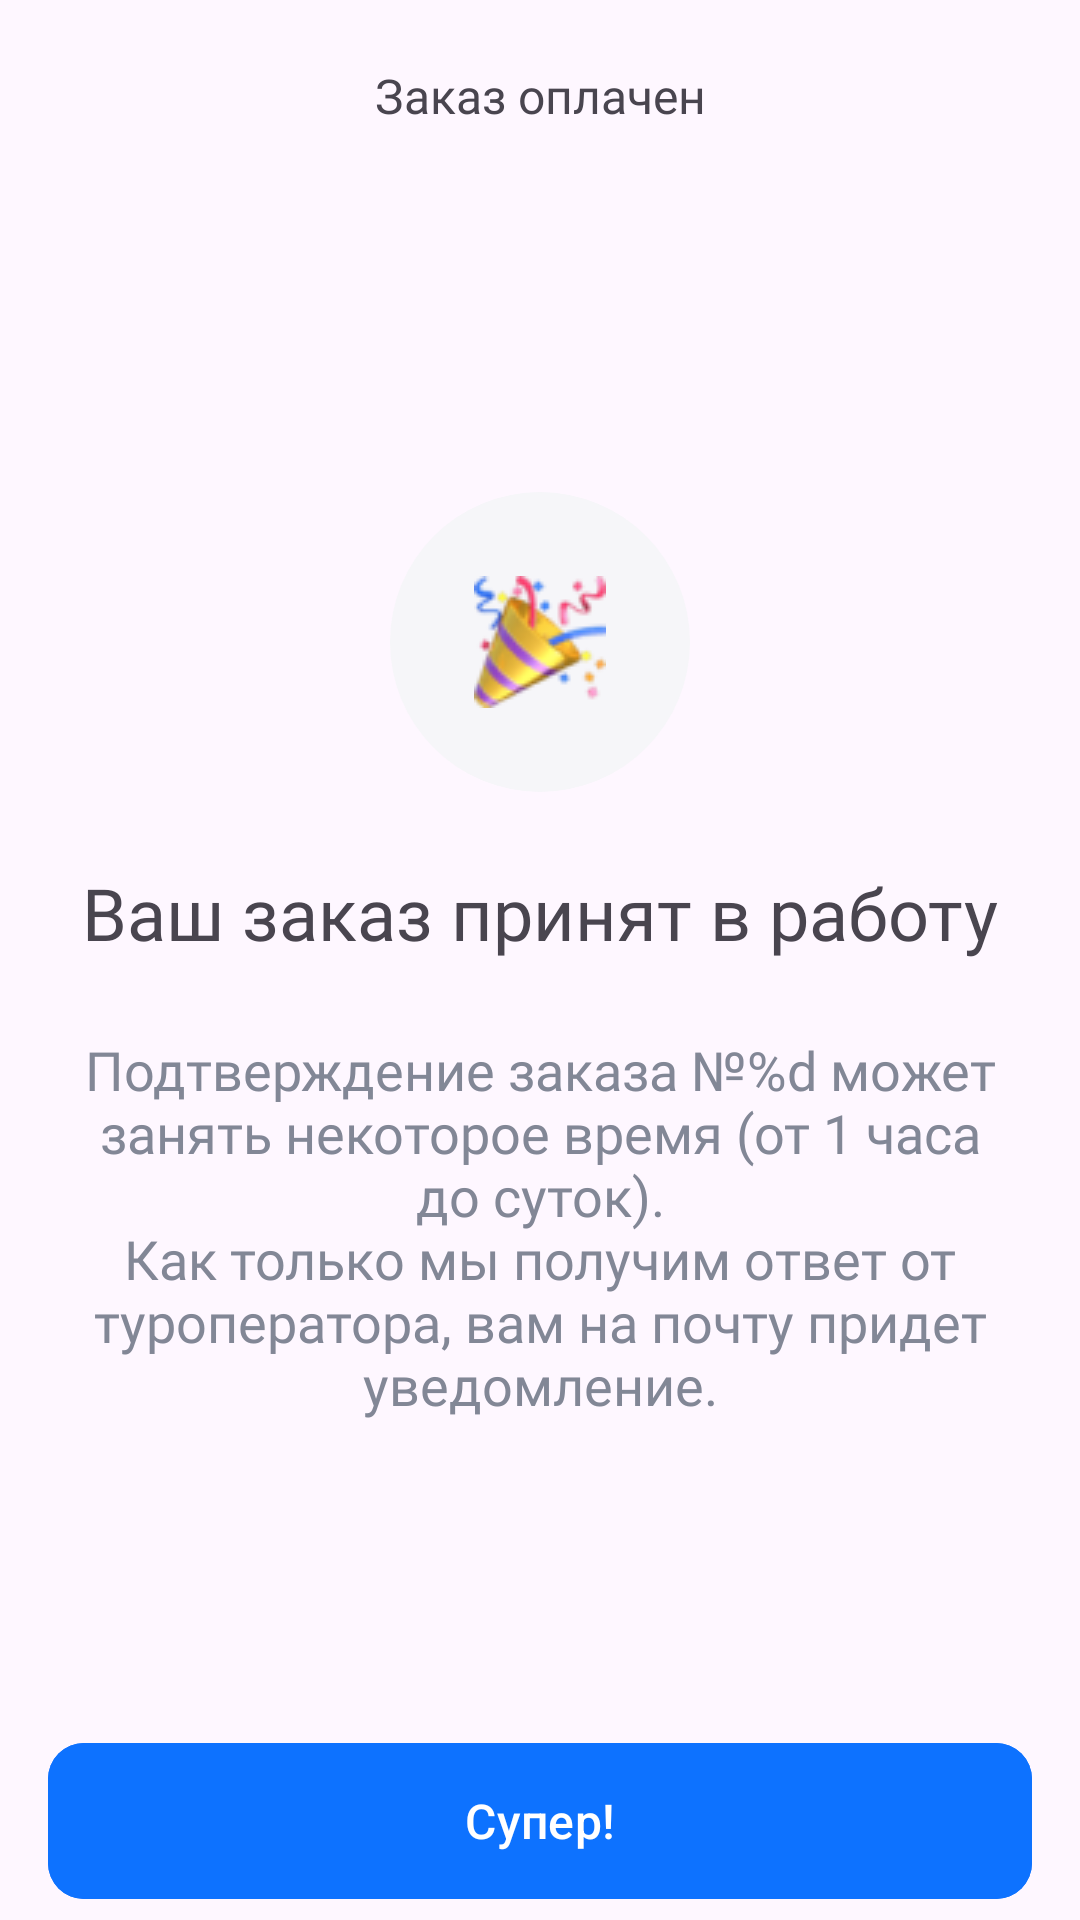

Named icons in this screenshot (1080px x 1920px) and their bounding boxes, (x1, y1, x2, y2):
party popper: (474, 576, 606, 708)
